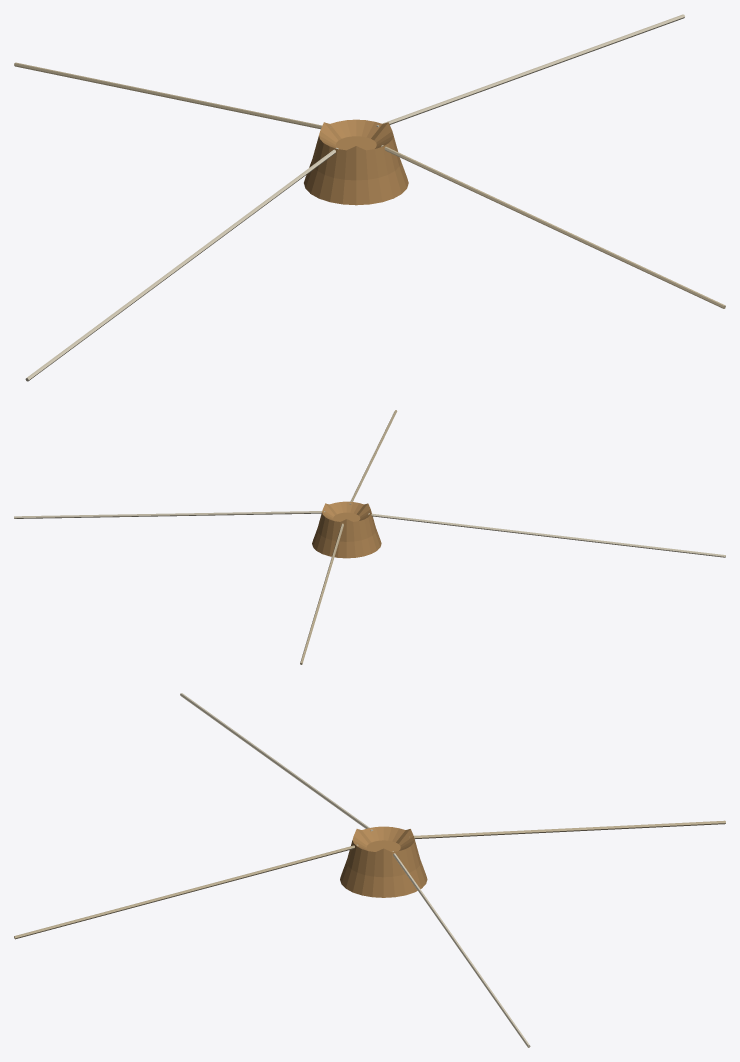
File: coronacollina.glb
3 renders of one model, top to bottom at view 1: azimuth 30°, elevation 25°; view 2: azimuth 150°, elevation 25°; view 3: azimuth 270°, elevation 25°, orthographic. The views are drawn at different scales.
Parts seen in each view (by area): view 1: low-cone-four-rigid-spicules; view 2: low-cone-four-rigid-spicules; view 3: low-cone-four-rigid-spicules.
Part boxes in pixels (box(x1,y1,x2,y2)): low-cone-four-rigid-spicules: box(14, 14, 725, 381); low-cone-four-rigid-spicules: box(14, 410, 725, 664); low-cone-four-rigid-spicules: box(14, 693, 725, 1047).
Bounding box in the file's own units: 0.1713 × 0.01 × 0.1462.
